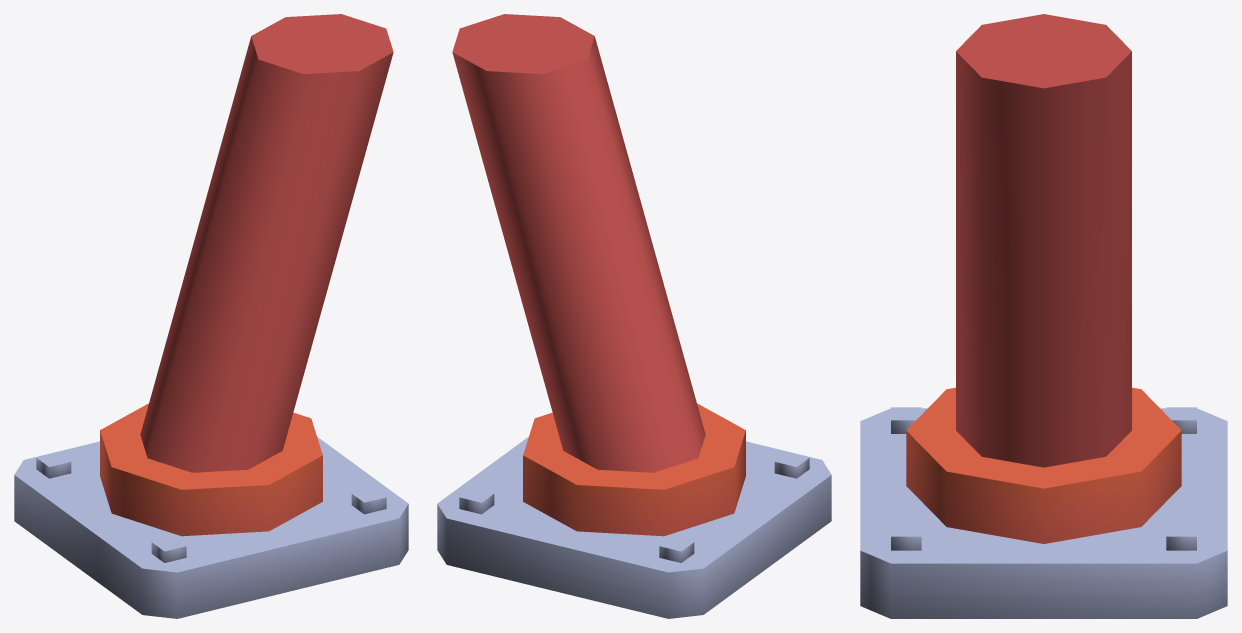
File: support-small-skew-bottom.glb
3 renders of one model, left to right at view 1: azimuth 30°, elevation 25°; view 2: azimuth 150°, elevation 25°; view 3: azimuth 270°, elevation 25°, orthographic. The views are drawn at different scales.
Parts seen in each view (by area): view 1: support-small-skew-bottom; view 2: support-small-skew-bottom; view 3: support-small-skew-bottom.
Part boxes in pixels (box(x1,y1,x2,y2)): support-small-skew-bottom: box(14, 14, 408, 618); support-small-skew-bottom: box(437, 14, 831, 618); support-small-skew-bottom: box(860, 14, 1227, 618).
Size of the model in its own units: 0.6938 by 1 by 0.6001.
Materials: 1 (1 with a texture image).
